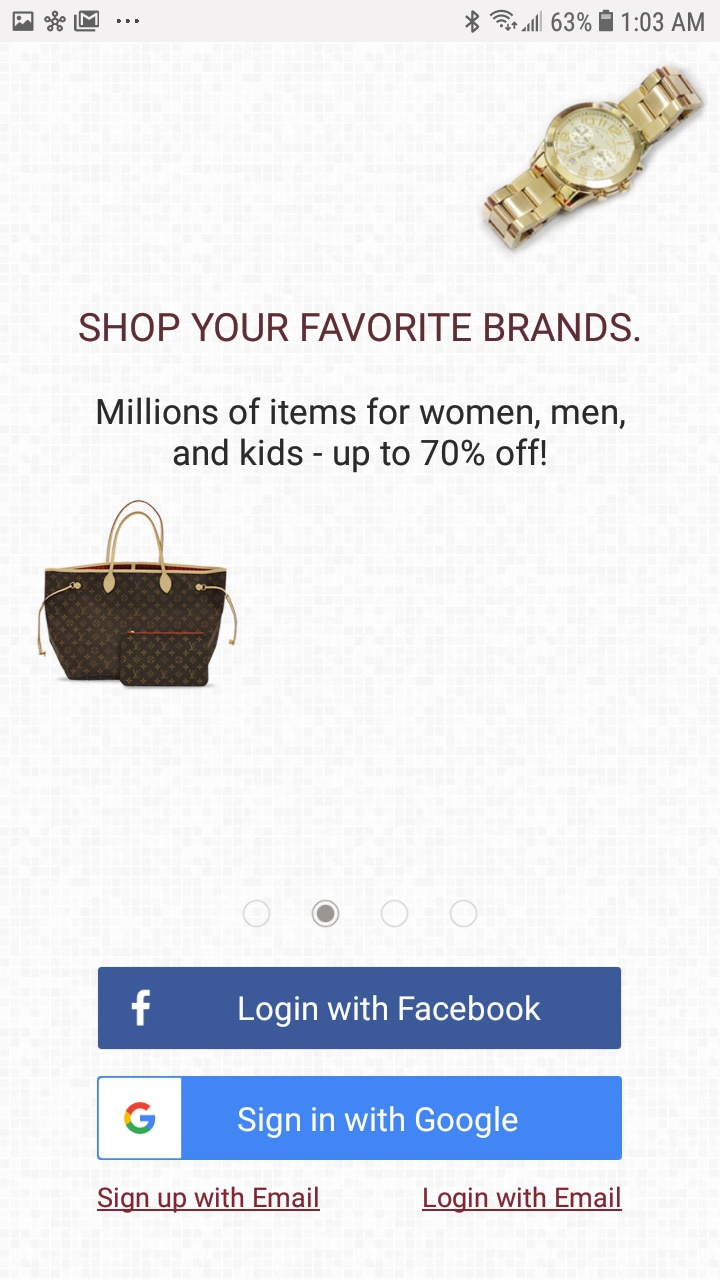Image: (480, 64, 707, 253), (37, 499, 239, 688)
PageIndicator: (243, 899, 479, 929)
Text: (97, 397, 625, 474), (79, 313, 640, 343), (97, 1185, 321, 1213), (422, 1186, 623, 1214)
TextButton: (98, 1075, 623, 1160), (98, 967, 621, 1050)
UpperTaskBar: (1, 1, 720, 43)
